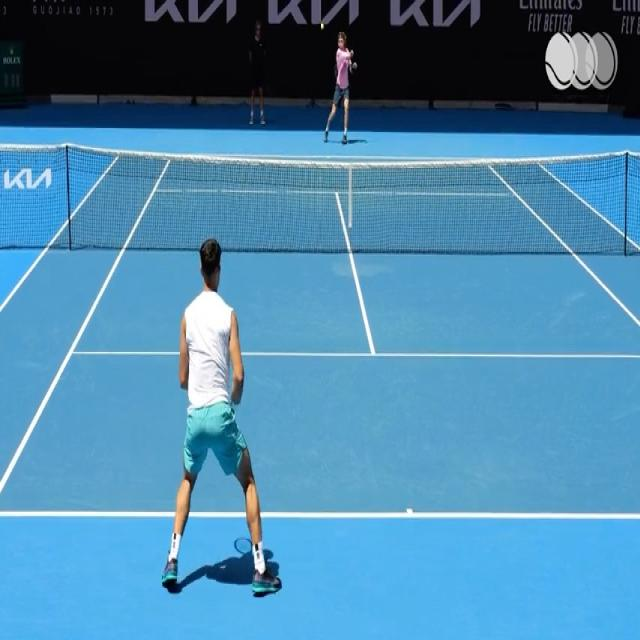ready-position: (162, 228, 278, 594)
